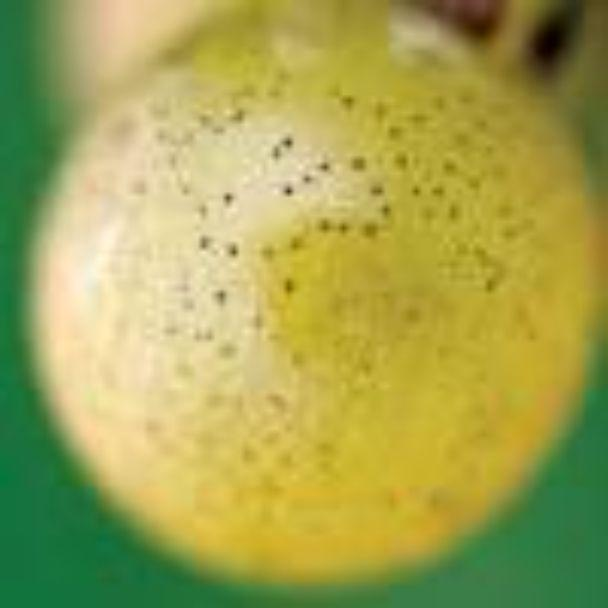BLOTCH: (57, 23, 590, 585)
